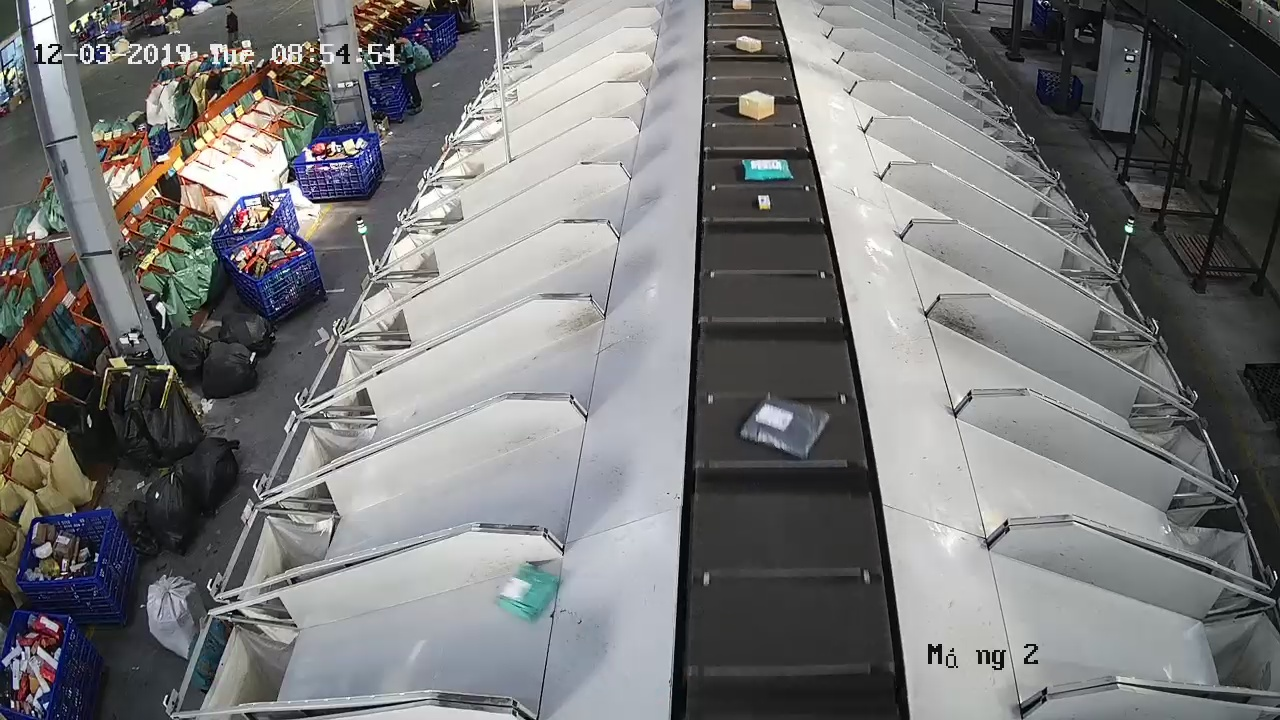parcel: (738, 394, 830, 460), (494, 561, 561, 624), (740, 157, 796, 182), (737, 89, 776, 121), (756, 193, 773, 212)
